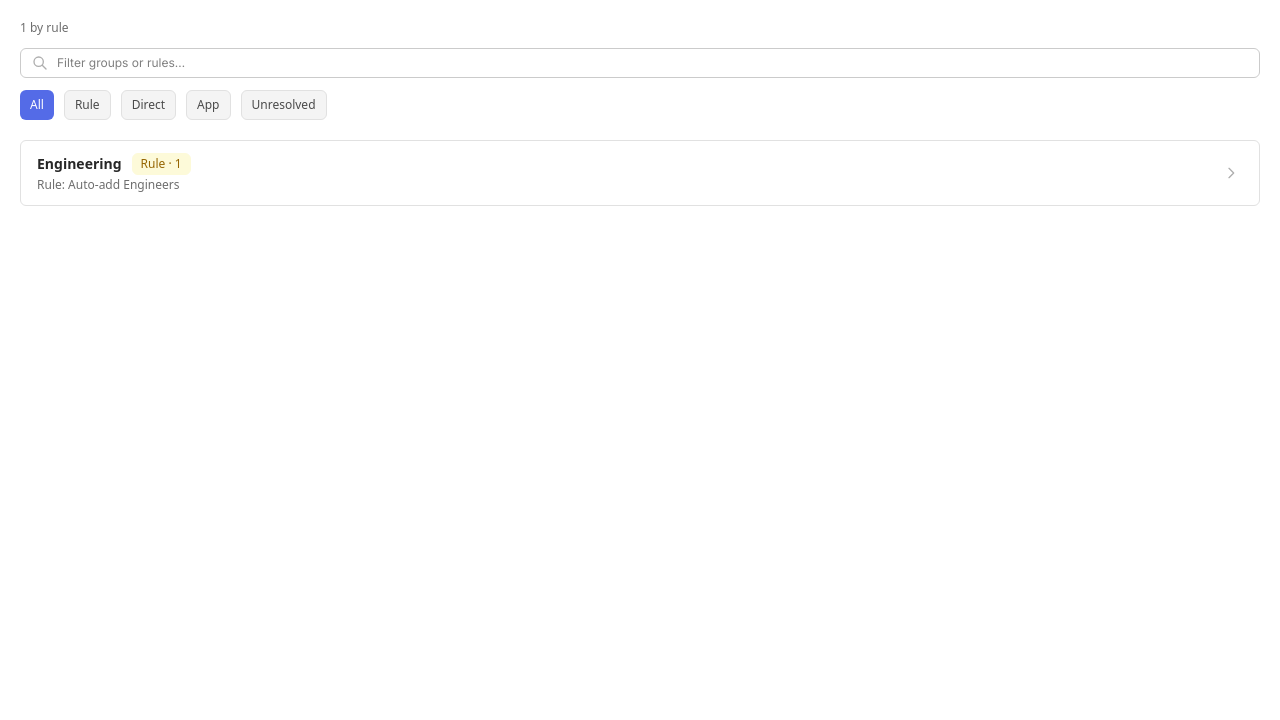
it: GroupMembershipsList — proving one membership against Okta › states Okta’s named rule as a fact once proven
Click the button named "Show how Engineering was granted". click: (1231, 173)
box: [1219,161,1243,185]
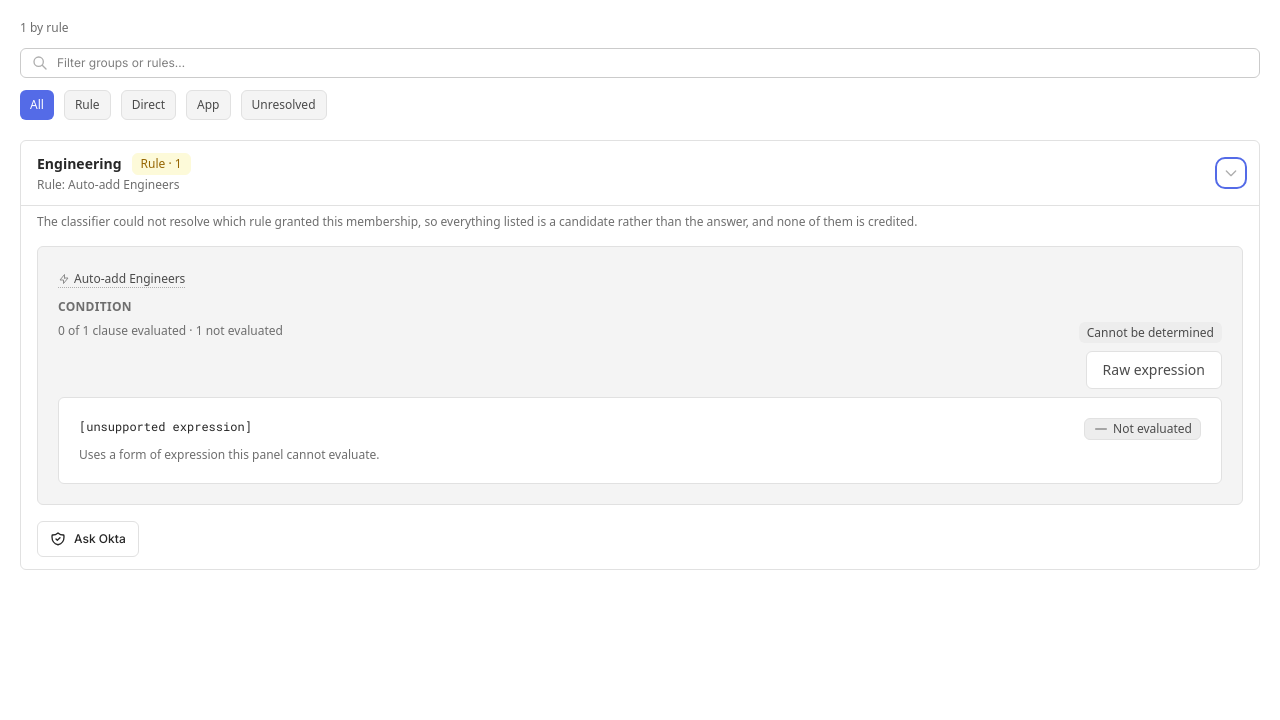
Click the button "Ask Okta". click: (88, 539)
box: [37,521,139,557]
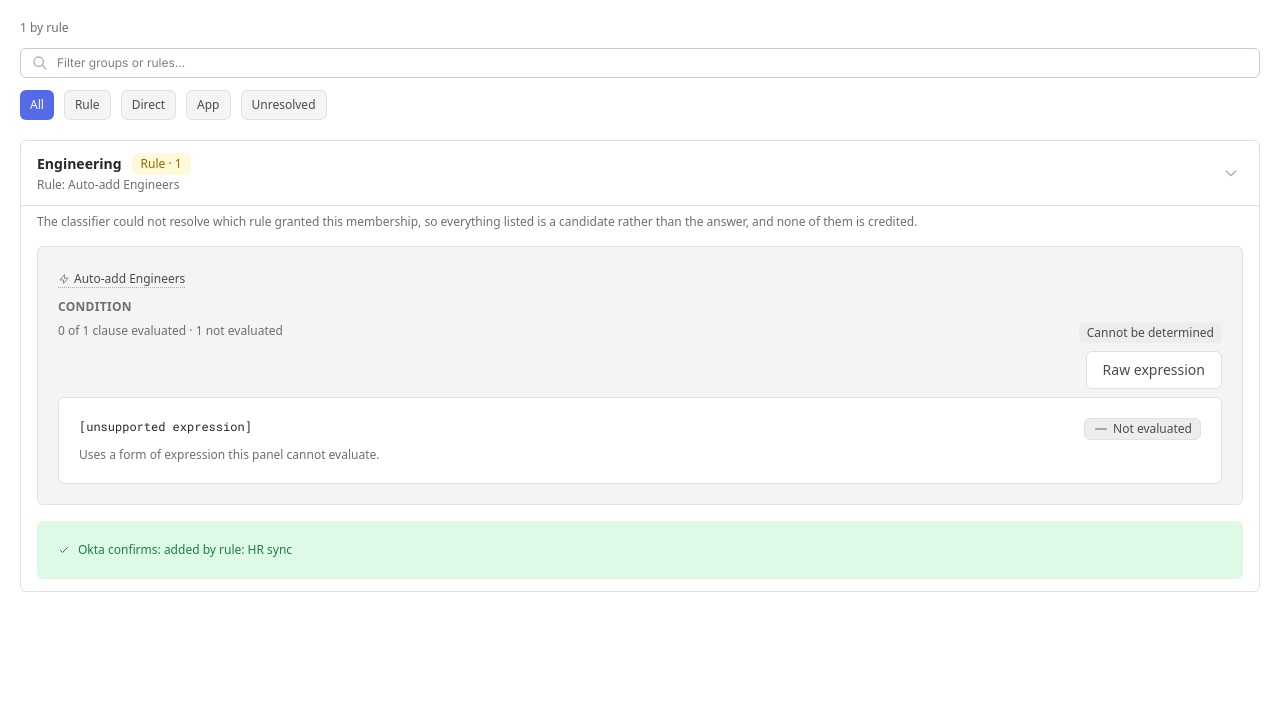
Result: the text "Okta confirms: added by rule: HR sync" is shown at [58,541,292,558]
